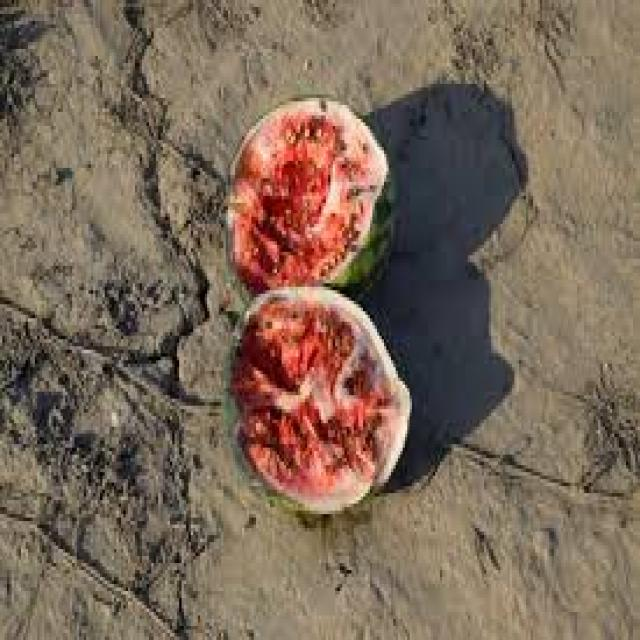food_waste: (230, 98, 410, 511)
